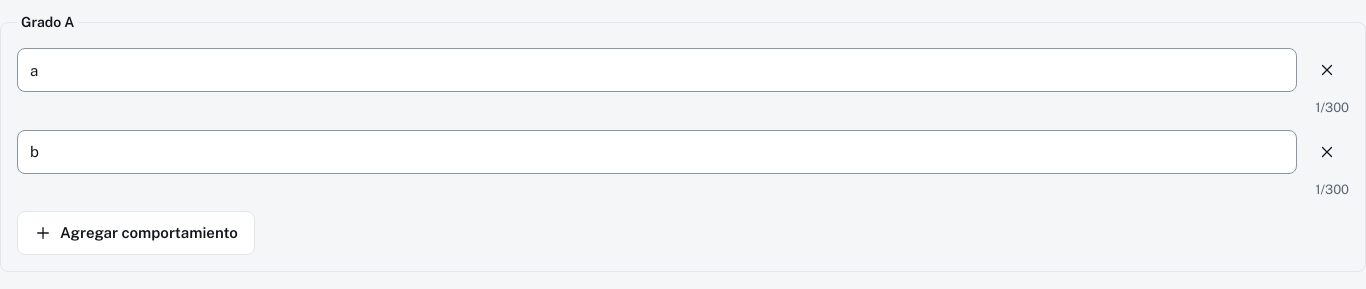
ListaDeCampos › quita campos hasta dejar 1 y deshabilita Quitar en el mínimo
Click the button named "Quitar comportamiento 1 del grado A": (1327, 70) 1305,48 -> 1349,92
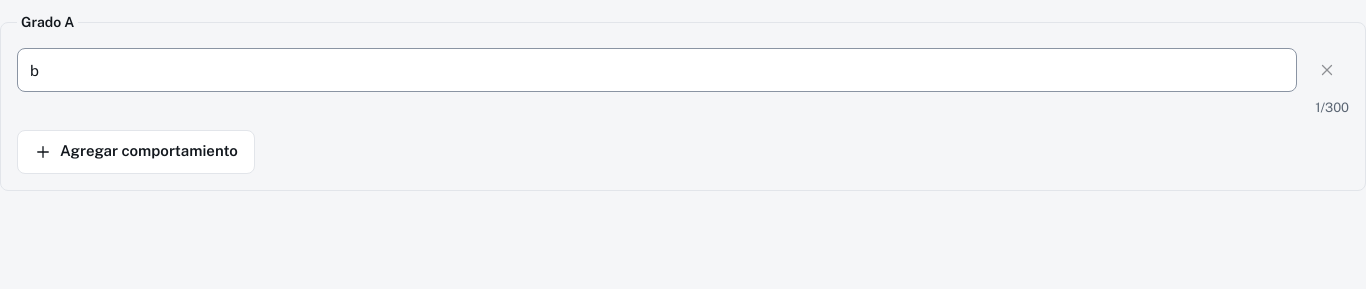
expect the number of fields is 1: met, box 17,48 -> 1297,92
expect the field named "Comportamiento 1 del grado A" holds "b": met, box 17,48 -> 1297,92
expect the button named "Quitar comportamiento 1 del grado A" is disabled: met, box 1305,48 -> 1349,92
